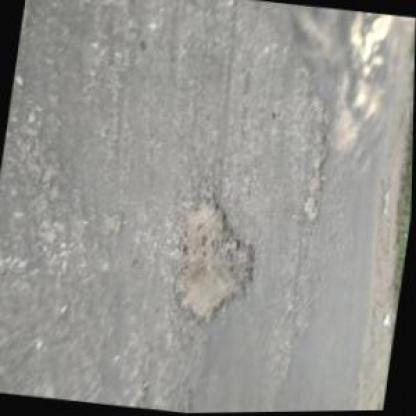pothole: (164, 184, 268, 332), (300, 127, 334, 228)
